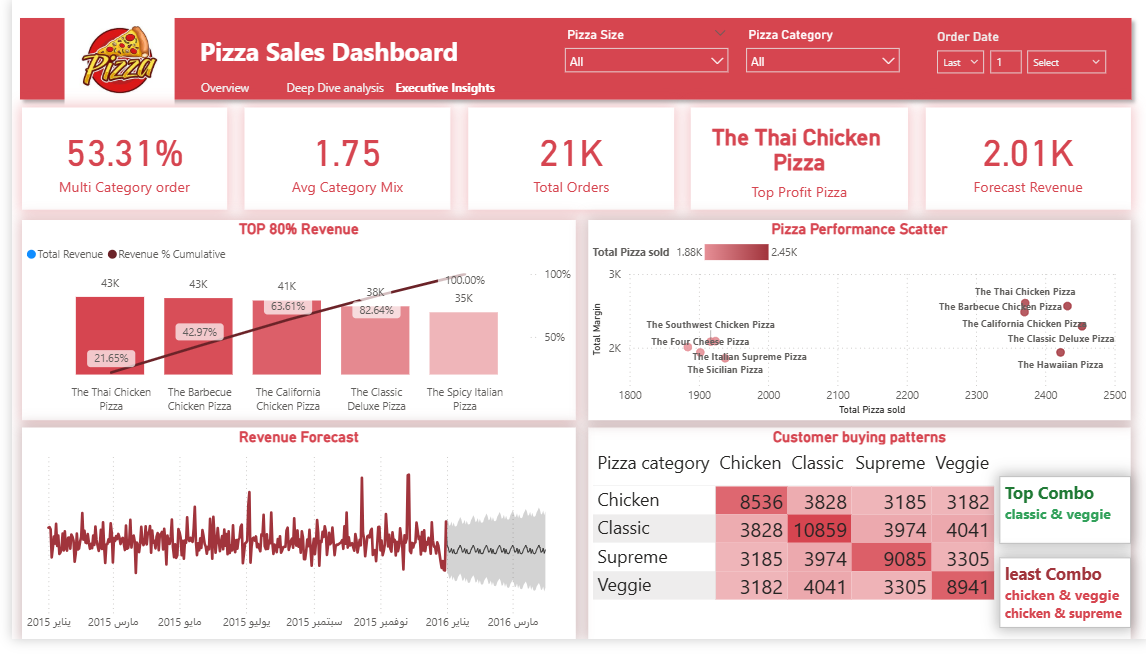

The page's visual inventory and layout, read from the dashboard file:
{"tool":"powerbi","page":{"name":"Executive Insights","canvas":[1280,720],"ordinal":2},"visuals":[{"type":"shape","box":[0,11.3,1270.4,109.9],"z":0},{"type":"image","box":[0,0,242.3,133.8],"z":1000},{"type":"shape","box":[183.1,0,347.9,114.1],"z":2000},{"type":"card","fields":{"Values":["_measures.Multi Category%"]},"box":[11.3,121.1,231,115.5],"z":3000},{"type":"card","fields":{"Values":["_measures.Avg Category Mix"]},"box":[261.6,121.1,232.4,115.5],"z":4000},{"type":"card","fields":{"Values":["_measures.Total Orders"]},"box":[513.4,121.1,232.4,115.5],"z":5000},{"type":"card","fields":{"Values":["_measures.$Top Profit Pizza Name"]},"box":[765.1,121.1,245.1,115.5],"z":6000},{"type":"card","fields":{"Values":["_measures.Forecast Revenue"]},"box":[1029.6,121.1,231,115.5],"z":7000},{"type":"pivotTable","title":"Customer buying patterns","fields":{"Columns":["pizza_sales.pizza_category"],"Rows":["Basket Category.pizza_category"],"Values":["_measures.Order With both"]},"box":[649.3,481.7,611.3,238],"z":9000},{"type":"slicer","fields":{"Values":["pizza_sales.pizza_category"]},"box":[816.9,25.4,193,64.8],"z":10000},{"type":"slicer","fields":{"Values":["pizza_sales.pizza_size"]},"box":[612.7,25.4,204.2,64.8],"z":11000},{"type":"slicer","fields":{"Values":["pizza_sales.order_date"]},"box":[1029.6,28.2,216.9,59.2],"z":12000},{"type":"pageNavigator","box":[183.1,87.3,363.4,22.5],"z":13000},{"type":"lineStackedColumnComboChart","title":"TOP 80% Revenue","fields":{"Category":["pizza_sales.pizza_name"],"Y":["_measures.Total Revenue"],"Y2":["_measures.Revenue % Cumulative"]},"box":[11.3,247.9,623.9,225.4],"z":14000},{"type":"lineChart","title":"Revenue Forecast","fields":{"Y":["_measures.Total Revenue"],"Category":["pizza_sales.order_date"]},"box":[11.3,481.7,623.9,238],"z":15000},{"type":"scatterChart","title":"Pizza Performance Scatter","fields":{"X":["_measures.Total Pizza sold"],"Y":["_measures.Total Margin"],"Category":["pizza_sales.pizza_name"]},"box":[649.3,247.9,611.3,225.4],"z":16000},{"type":"textbox","box":[1112.7,536.6,147.9,76.1],"z":17000},{"type":"textbox","box":[1112.7,628.2,147.9,78.9],"z":18000}]}

Visuals, with their boxes in screenshot pixels (x1, y1, x2, y2), scaled from the page's 1280x720 canvas onto the 1146x656 screenshot:
shape: pyautogui.locateOnScreen(0, 10, 1137, 110)
image: pyautogui.locateOnScreen(0, 0, 217, 122)
shape: pyautogui.locateOnScreen(164, 0, 475, 104)
card - _measures.Multi Category%: pyautogui.locateOnScreen(10, 110, 217, 216)
card - _measures.Avg Category Mix: pyautogui.locateOnScreen(234, 110, 442, 216)
card - _measures.Total Orders: pyautogui.locateOnScreen(460, 110, 668, 216)
card - _measures.$Top Profit Pizza Name: pyautogui.locateOnScreen(685, 110, 904, 216)
card - _measures.Forecast Revenue: pyautogui.locateOnScreen(922, 110, 1129, 216)
"Customer buying patterns" pivotTable: pyautogui.locateOnScreen(581, 439, 1129, 655)
slicer - pizza_sales.pizza_category: pyautogui.locateOnScreen(731, 23, 904, 82)
slicer - pizza_sales.pizza_size: pyautogui.locateOnScreen(549, 23, 731, 82)
slicer - pizza_sales.order_date: pyautogui.locateOnScreen(922, 26, 1116, 80)
pageNavigator: pyautogui.locateOnScreen(164, 80, 489, 100)
"TOP 80% Revenue" lineStackedColumnComboChart: pyautogui.locateOnScreen(10, 226, 569, 431)
"Revenue Forecast" lineChart: pyautogui.locateOnScreen(10, 439, 569, 655)
"Pizza Performance Scatter" scatterChart: pyautogui.locateOnScreen(581, 226, 1129, 431)
textbox: pyautogui.locateOnScreen(996, 489, 1129, 558)
textbox: pyautogui.locateOnScreen(996, 572, 1129, 644)
